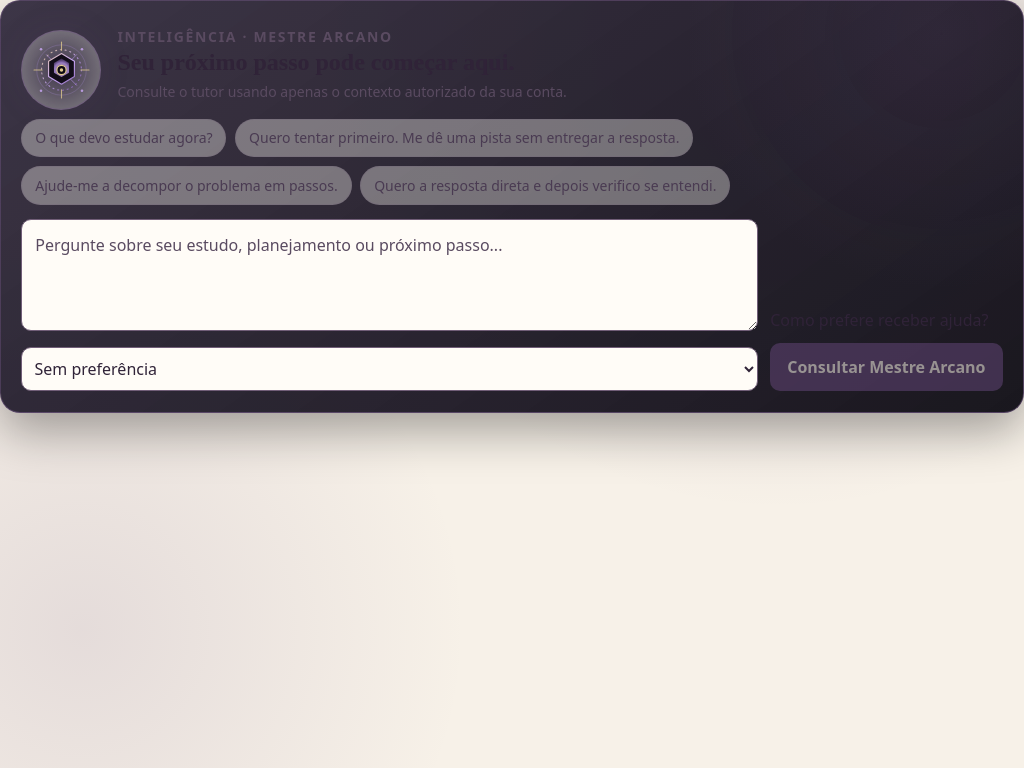
MestreArcanoPanel › preserva a pista escolhida após personalizar o texto sugerido
This screenshot has width=1024, height=768.
Click the button "Quero tentar primeiro. Me dê uma pista sem entregar a resposta.".
click(464, 138)  # box [235, 119, 693, 157]
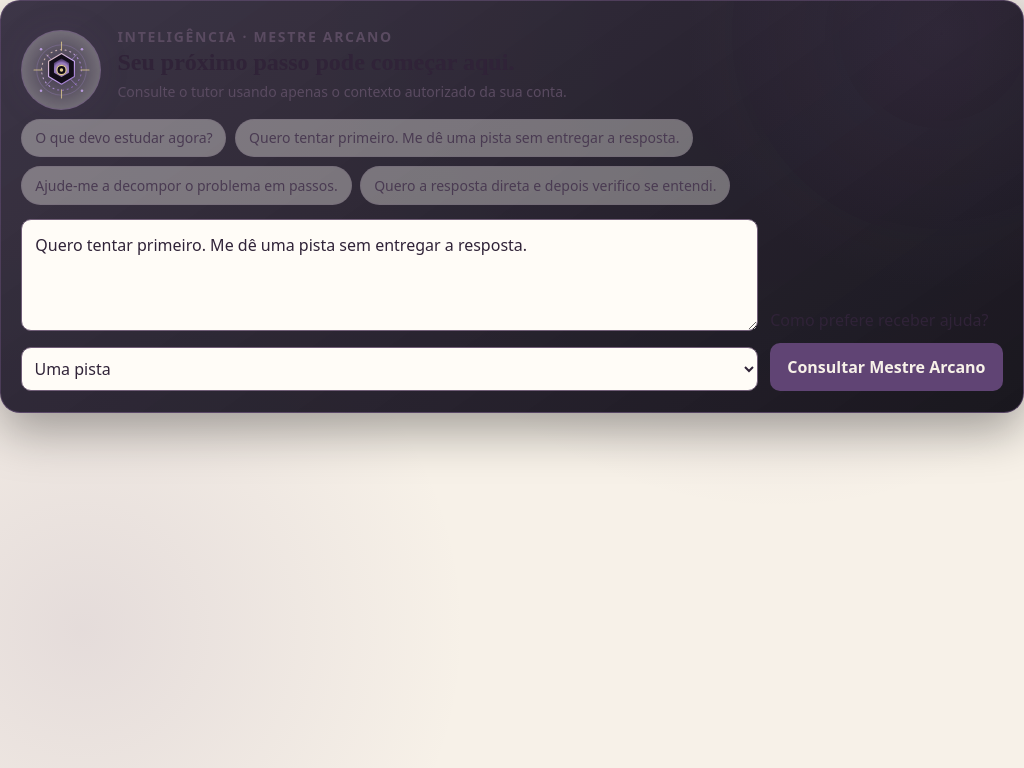
Replace the text in the text box named "Mensagem para o Mestre Arcano" with "Preciso de uma pista para esta questão específica." at x=390, y=275, box [22, 219, 758, 331]
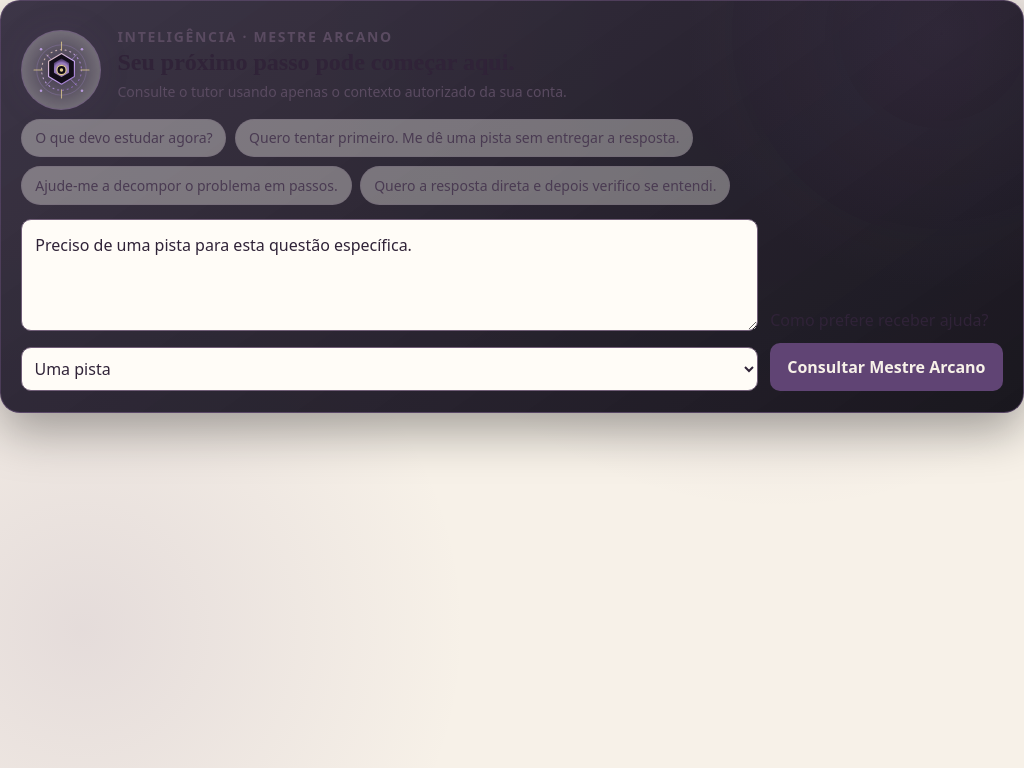
Now the dropdown labelled "Como prefere receber ajuda?" shows "Uma pista", box [22, 347, 758, 391]
Click the button "Consultar Mestre Arcano".
click(886, 367)  # box [770, 343, 1003, 391]
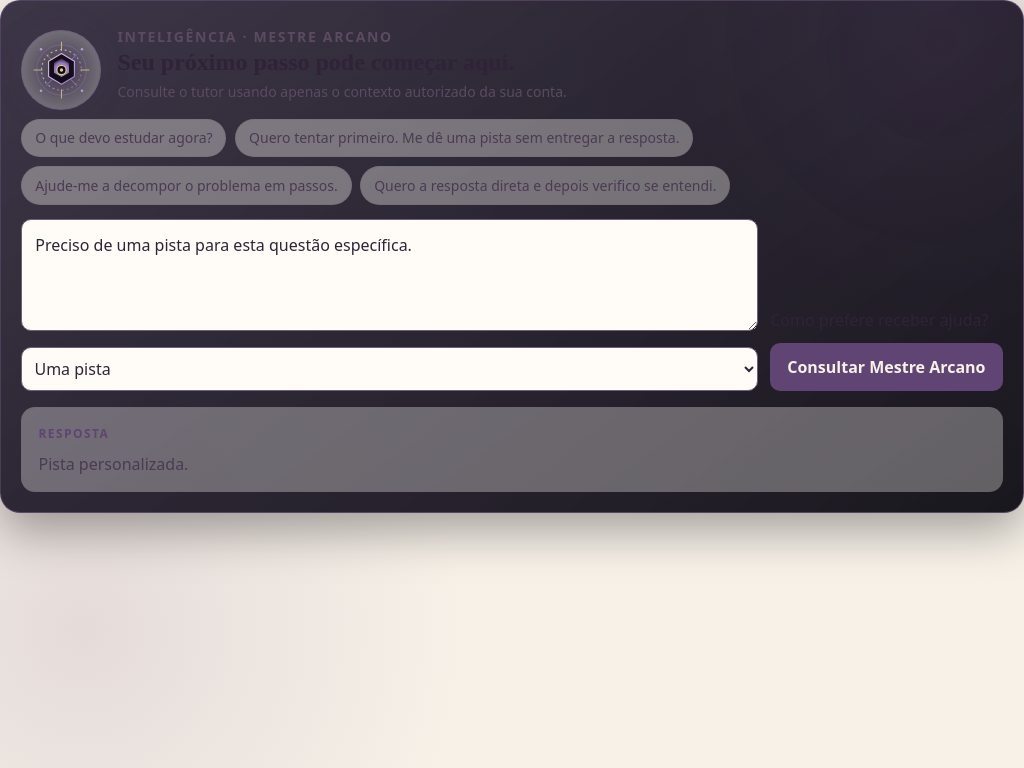
Now the text "Pista personalizada." is shown, box [38, 453, 188, 475]
